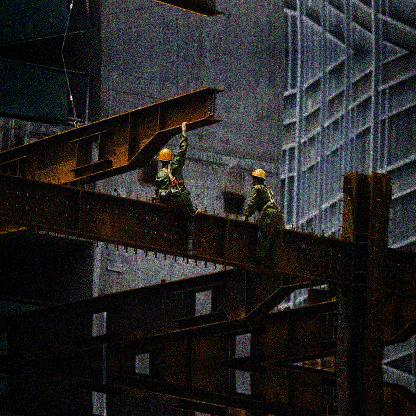helmet: (251, 168, 267, 186), (158, 149, 174, 166)
